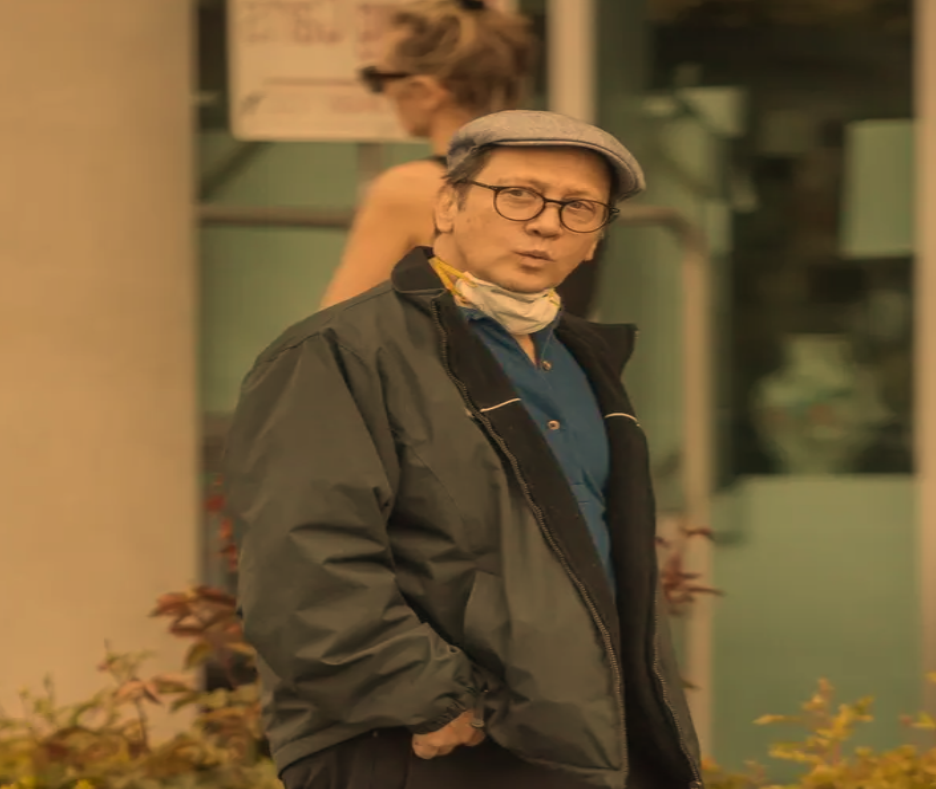mask_weared_incorrect: (409, 104, 647, 339)
